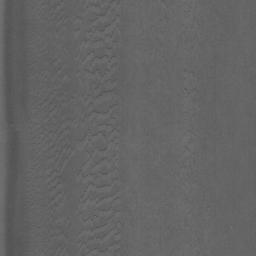Silk spot: (32, 0, 128, 256), (151, 14, 169, 56)
